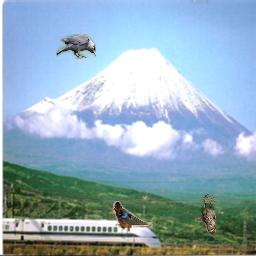Crow: (56, 34, 96, 59)
Sparrow: (194, 194, 216, 234)
Swallow: (113, 201, 153, 228)
